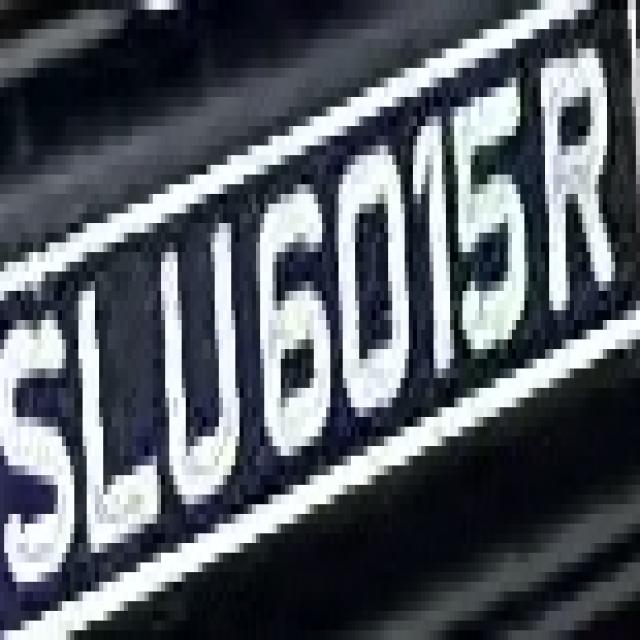0: (334, 136, 413, 446)
1: (426, 87, 458, 427)
5: (442, 58, 532, 378)
6: (240, 174, 338, 485)
L: (70, 213, 161, 553)
R: (524, 10, 620, 320)
S: (8, 242, 78, 640)
U: (140, 174, 244, 524)
